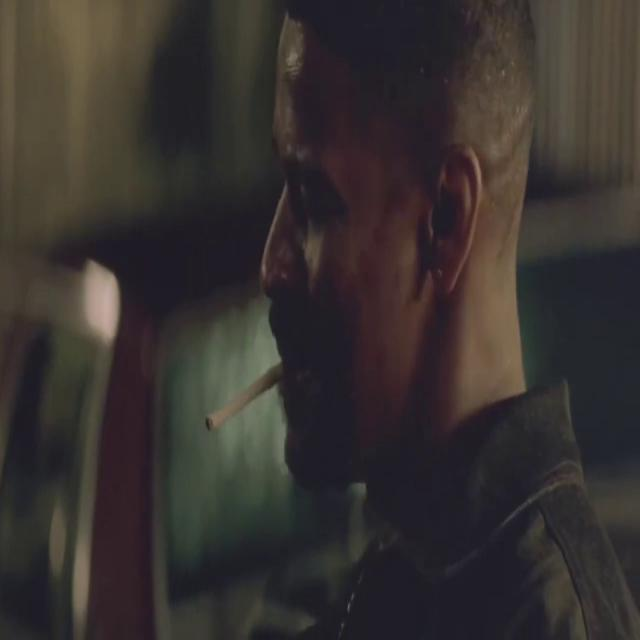Smooking: (192, 366, 290, 436)
